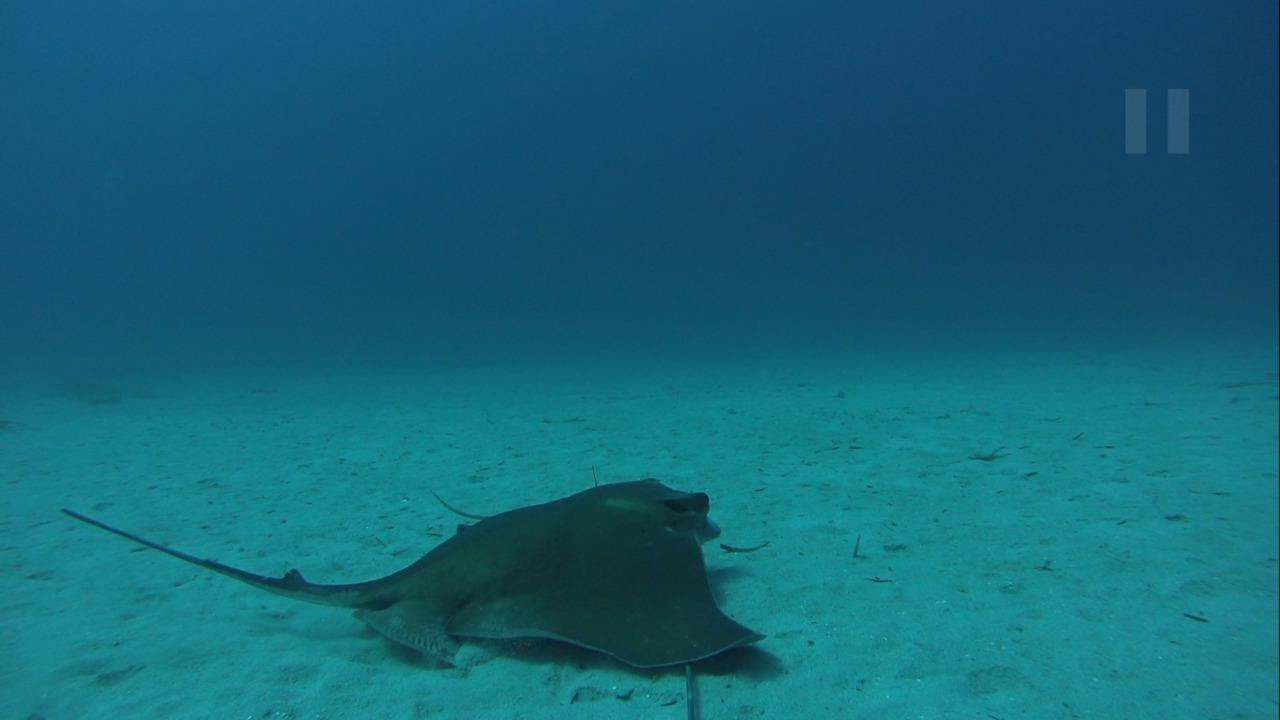myliobatis: (52, 472, 769, 680)
